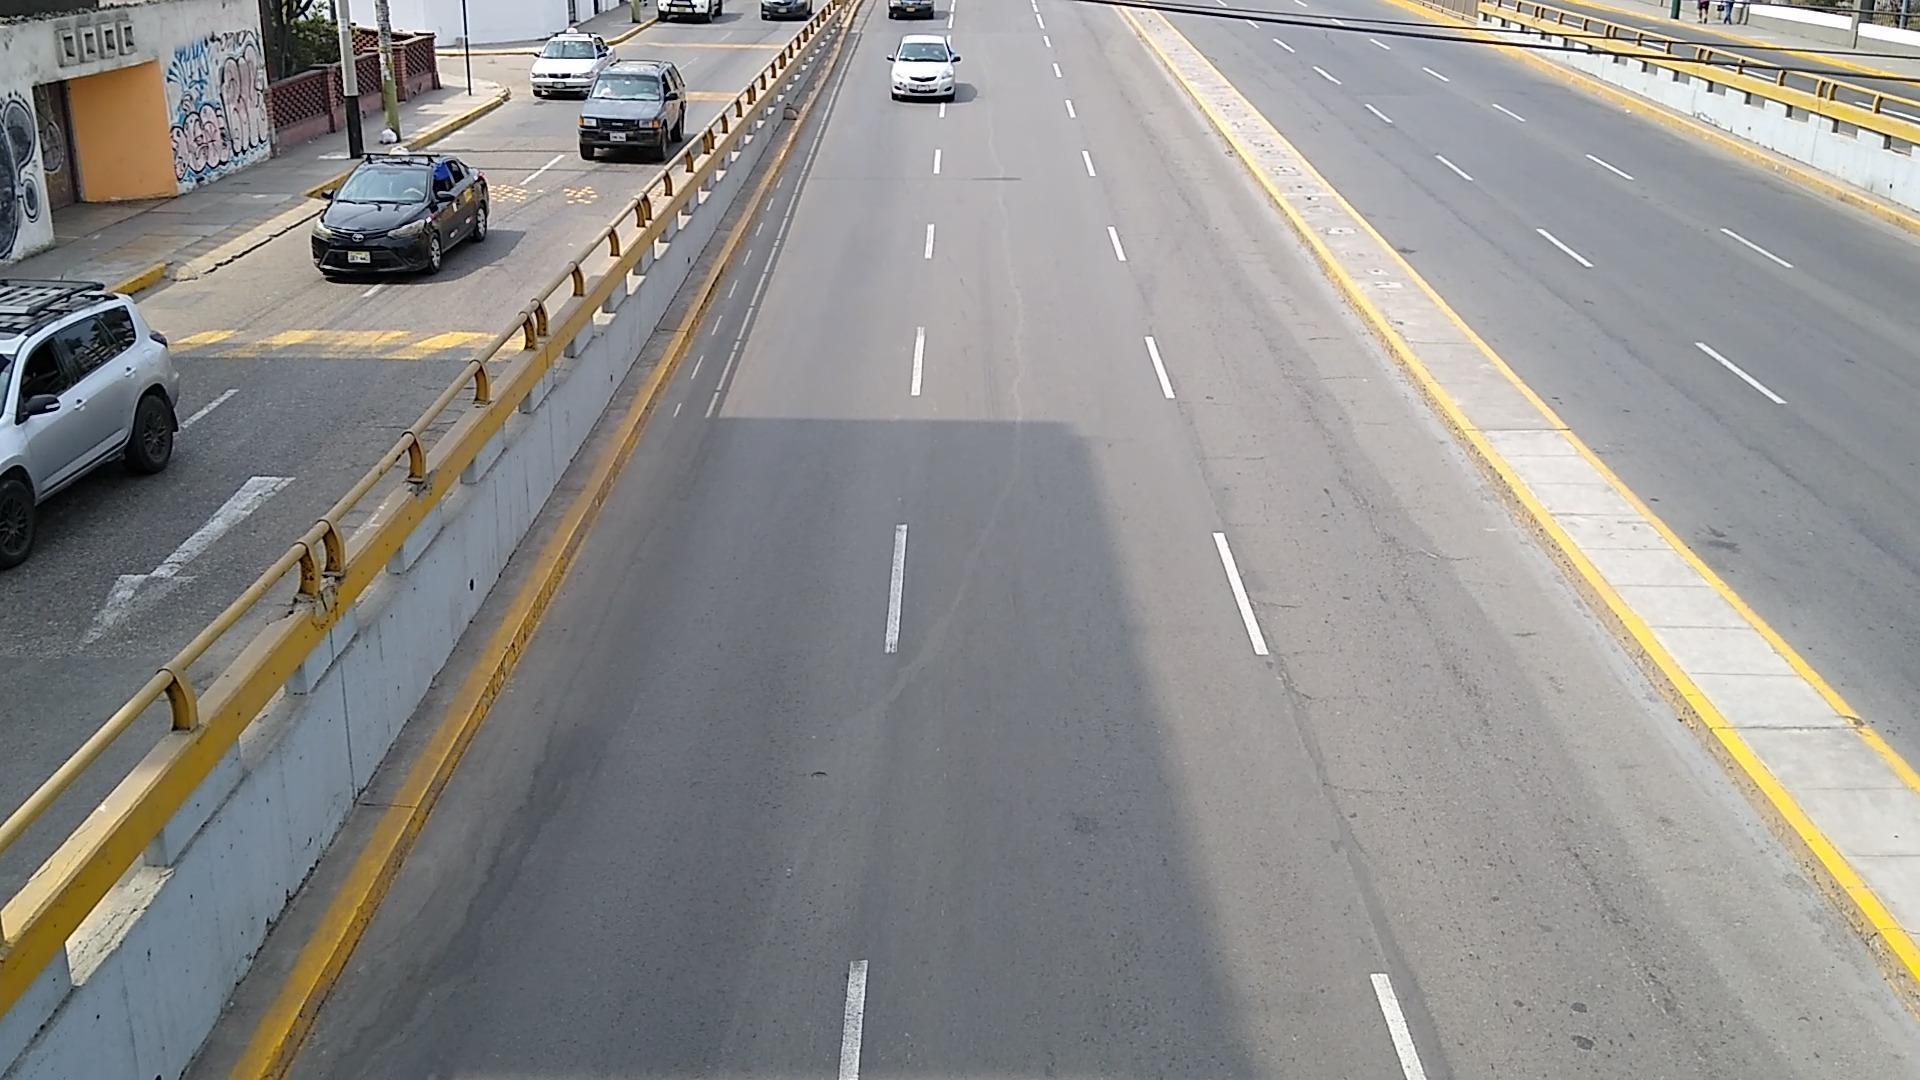car: (0, 285, 177, 564), (311, 154, 488, 277), (578, 61, 686, 157), (529, 30, 615, 98), (889, 34, 960, 96)
